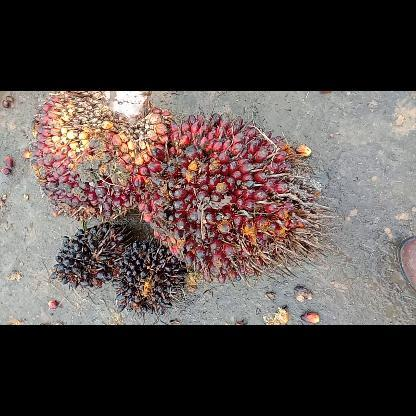TBS abnormal: (47, 219, 135, 290), (112, 238, 188, 317)
TBS masak: (132, 109, 334, 285), (29, 91, 177, 221)
